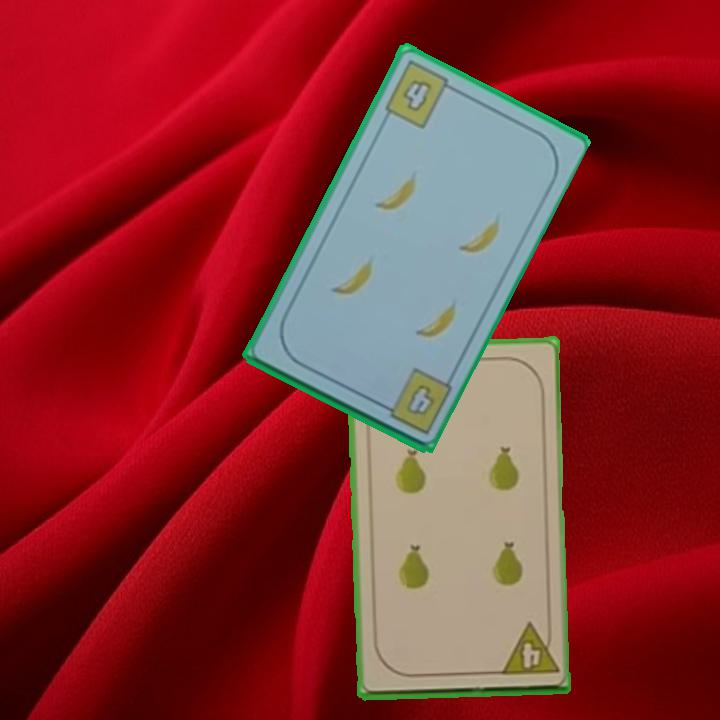4b: (380, 56, 459, 132), (374, 364, 455, 437)
4p: (496, 620, 561, 678)
